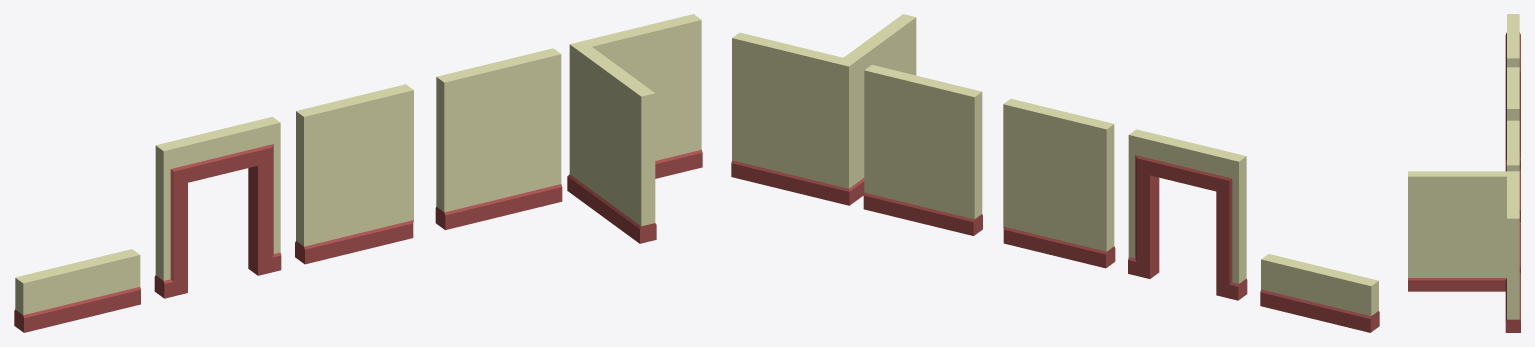
The model's file is Walls.fbx.
3 renders of one model, left to right at view 1: azimuth 30°, elevation 25°; view 2: azimuth 150°, elevation 25°; view 3: azimuth 270°, elevation 25°, orthographic. The views are drawn at different scales.
Parts seen in each view (by area): view 1: Wall_Corner, Wall_Straight, Wall_Partition, Wall_Door, Wall_Short; view 2: Wall_Corner, Wall_Straight, Wall_Partition, Wall_Door, Wall_Short; view 3: Wall_Corner, Wall_Door, Wall_Partition, Wall_Straight.
Boxes of the visible parts, x1,y1,x2,y2 form: Wall_Corner: (567,14,702,243); Wall_Straight: (435,48,562,230); Wall_Partition: (295,84,413,264); Wall_Door: (154,117,281,298); Wall_Short: (14,249,140,332); Wall_Corner: (731,14,916,205); Wall_Straight: (863,65,982,235); Wall_Partition: (1003,98,1115,268); Wall_Door: (1128,129,1247,300); Wall_Short: (1260,254,1379,332); Wall_Corner: (1408,171,1520,332); Wall_Door: (1505,14,1520,169); Wall_Partition: (1505,67,1520,222); Wall_Straight: (1507,120,1520,273).
Size of the model in its own units: 14.5 by 3 by 2.68.
